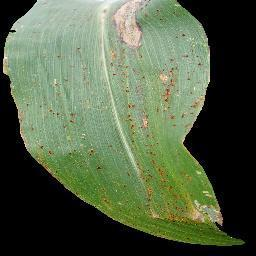Corn_Common_Rust: (94, 7, 256, 246), (2, 1, 95, 205)
